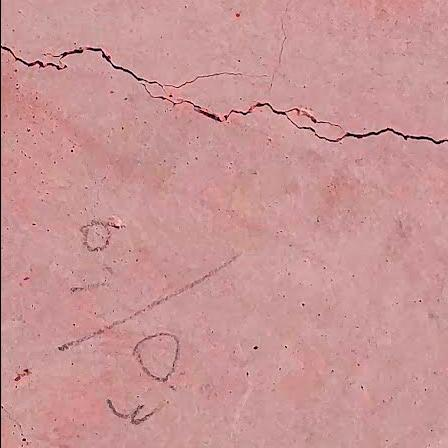crack: (34, 36, 448, 163), (0, 43, 69, 80)
